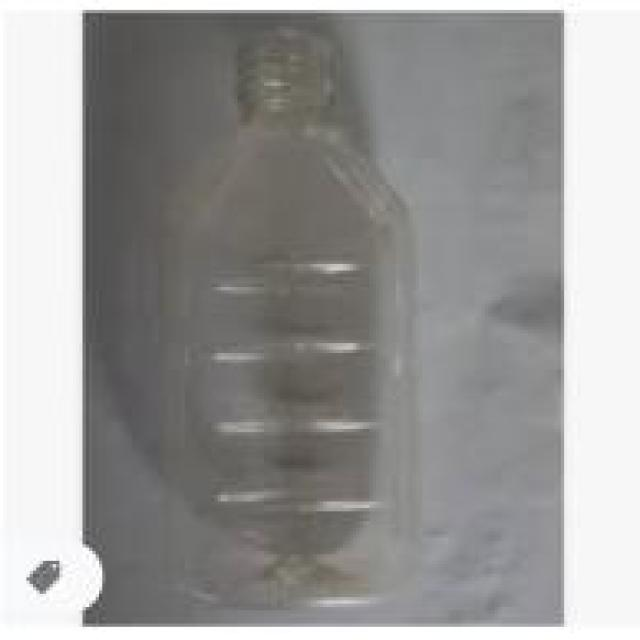bottle: (168, 26, 422, 614)
